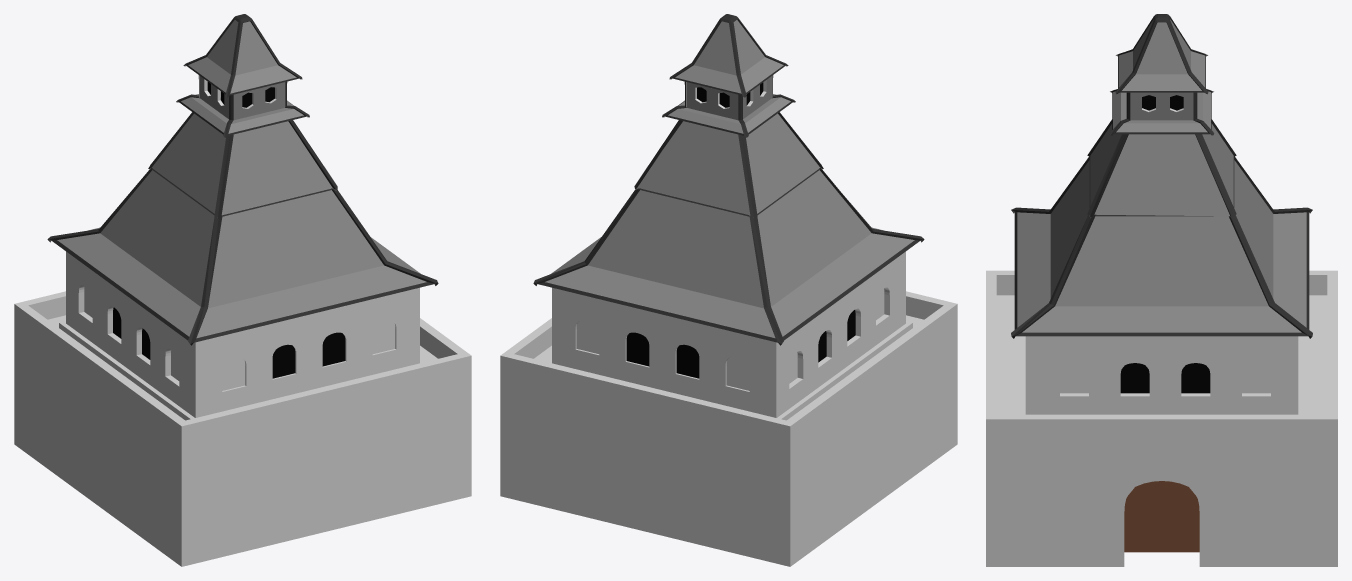
File: taytower.gltf
3 views of the same model, side by side, from view 1: azimuth 30°, elevation 25°; view 2: azimuth 150°, elevation 25°; view 3: azimuth 270°, elevation 25° (orthographic). The views are drawn at different scales.
Visible parts, largest first — view 1: Preob Tower; view 2: Preob Tower; view 3: Preob Tower.
Part boxes in pixels (x1,y1,x2,y2): Preob Tower: [14, 14, 471, 566]; Preob Tower: [500, 14, 957, 566]; Preob Tower: [986, 14, 1337, 566].
Size of the model in its own units: 6.82 by 10.2 by 6.82.
